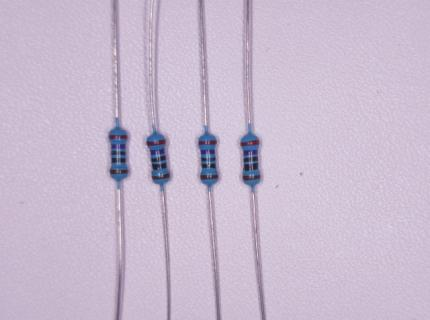Black band: (244, 162, 259, 171), (152, 161, 167, 169), (151, 155, 166, 162), (201, 156, 216, 162), (244, 156, 258, 162), (111, 158, 126, 163), (202, 163, 216, 168), (111, 151, 126, 155)
Brown band: (151, 172, 170, 180), (109, 168, 129, 175), (242, 174, 261, 181), (200, 174, 219, 180)
Red band: (146, 138, 165, 146), (240, 139, 259, 146), (108, 134, 127, 140), (198, 140, 217, 145)
Violet band: (150, 148, 164, 155), (244, 149, 258, 155), (201, 149, 214, 155), (111, 144, 126, 149)
